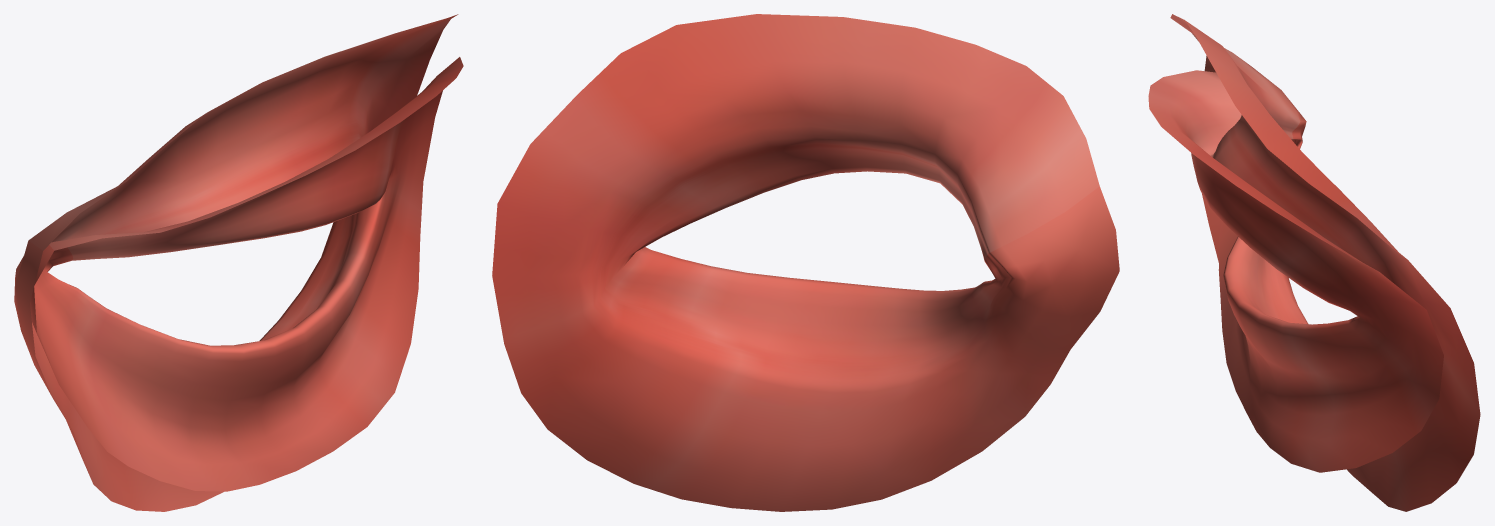
File: Orbicularis_Oculi_Palpebral_Muscle_Left.obj
3 views of the same model, side by side, from view 1: azimuth 30°, elevation 25°; view 2: azimuth 150°, elevation 25°; view 3: azimuth 270°, elevation 25° (orthographic). The views are drawn at different scales.
Parts seen in each view (by area): view 1: Orbicularis_Oculi_Muscle_Left:Orbicularis_Oculi_Muscle_Left1_Mes; view 2: Orbicularis_Oculi_Muscle_Left:Orbicularis_Oculi_Muscle_Left1_Mes; view 3: Orbicularis_Oculi_Muscle_Left:Orbicularis_Oculi_Muscle_Left1_Mes.
Boxes of the visible parts, <box> form: Orbicularis_Oculi_Muscle_Left:Orbicularis_Oculi_Muscle_Left1_Mes: <box>14,14,463,511</box>; Orbicularis_Oculi_Muscle_Left:Orbicularis_Oculi_Muscle_Left1_Mes: <box>492,14,1119,511</box>; Orbicularis_Oculi_Muscle_Left:Orbicularis_Oculi_Muscle_Left1_Mes: <box>1148,14,1480,511</box>.
Bounding box in the file's own units: 0.547 × 0.4646 × 0.3364.
